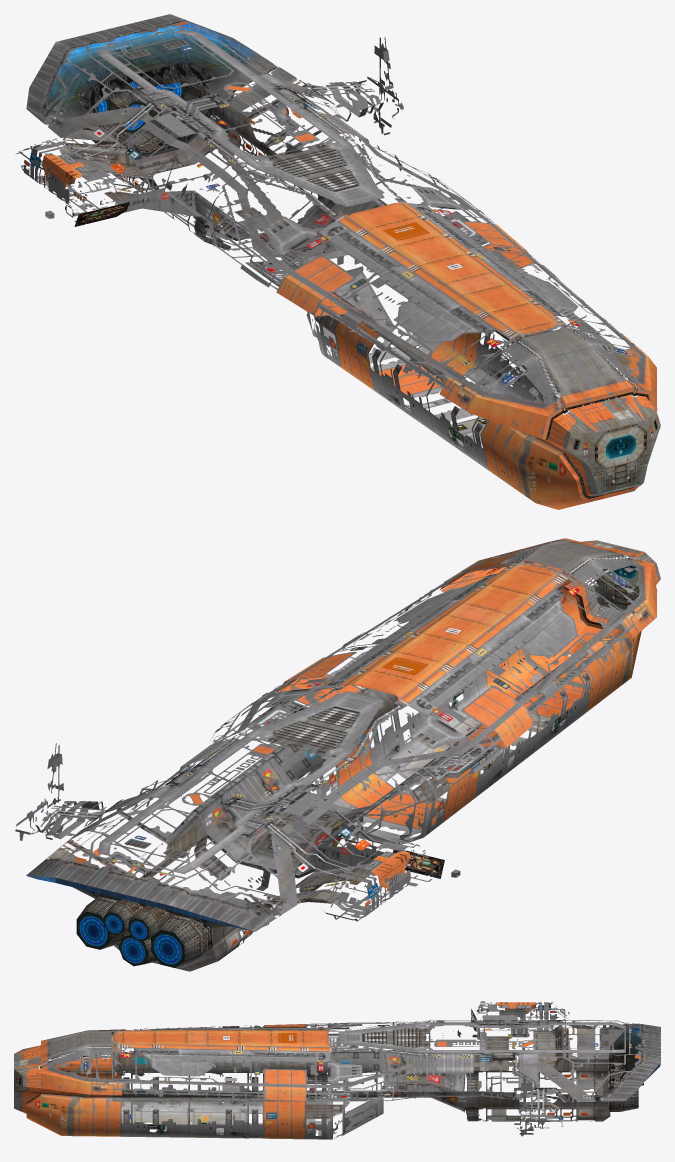
3 renders of one model, top to bottom at view 1: azimuth 30°, elevation 25°; view 2: azimuth 150°, elevation 25°; view 3: azimuth 270°, elevation 25°, orthographic. The views are drawn at different scales.
Visible parts, largest first — view 1: FrontUV, Engine, Badge0_MAT, LeftoverUV; view 2: FrontUV, Engine, Badge0_MAT; view 3: FrontUV, Badge0_MAT, Engine.
Part boxes in pixels (bbox=[...]): FrontUV: bbox=[15, 14, 660, 509]; Engine: bbox=[44, 21, 255, 132]; Badge0_MAT: bbox=[500, 327, 637, 404]; LeftoverUV: bbox=[352, 77, 656, 439]; FrontUV: bbox=[16, 538, 660, 971]; Engine: bbox=[26, 875, 253, 967]; Badge0_MAT: bbox=[501, 539, 637, 585]; FrontUV: bbox=[14, 1001, 660, 1139]; Badge0_MAT: bbox=[47, 1030, 111, 1066]; Engine: bbox=[608, 1026, 660, 1081].
Bounding box in the file's own units: 64.44 × 26.62 × 147.
